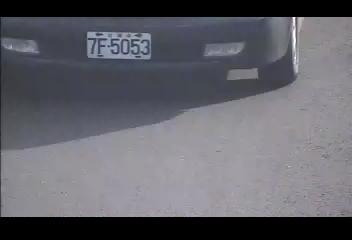plate: (84, 30, 154, 61)
